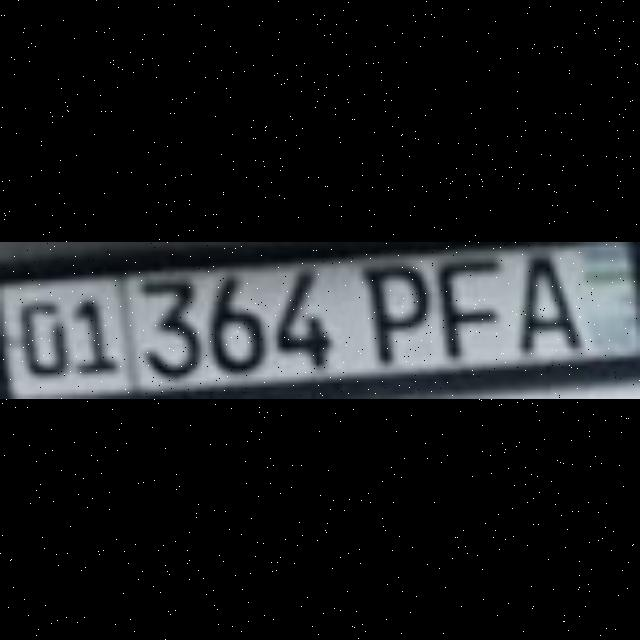0: (12, 296, 60, 369)
1: (68, 292, 112, 370)
3: (136, 275, 192, 373)
4: (268, 267, 320, 365)
6: (200, 271, 260, 369)
A: (512, 250, 576, 348)
F: (431, 254, 495, 352)
P: (359, 262, 427, 356)
